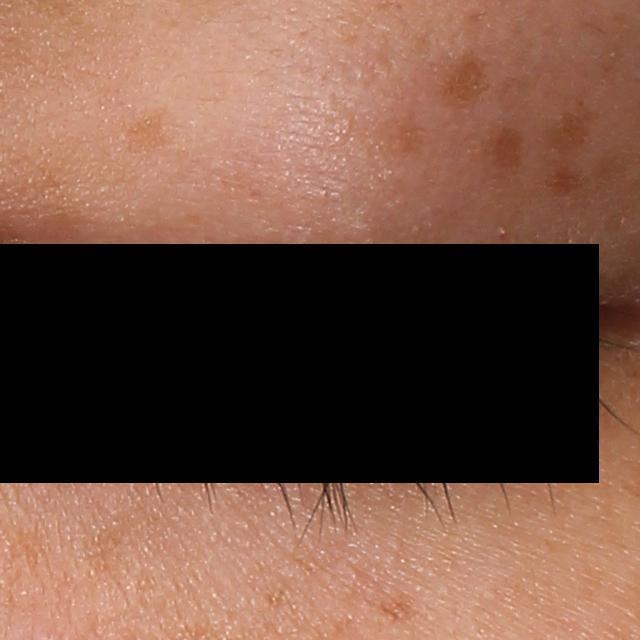melasma: (435, 49, 487, 112), (78, 521, 133, 579), (370, 117, 434, 164), (125, 105, 178, 160), (550, 102, 599, 158), (482, 122, 526, 176), (3, 524, 47, 577), (547, 163, 589, 200)
